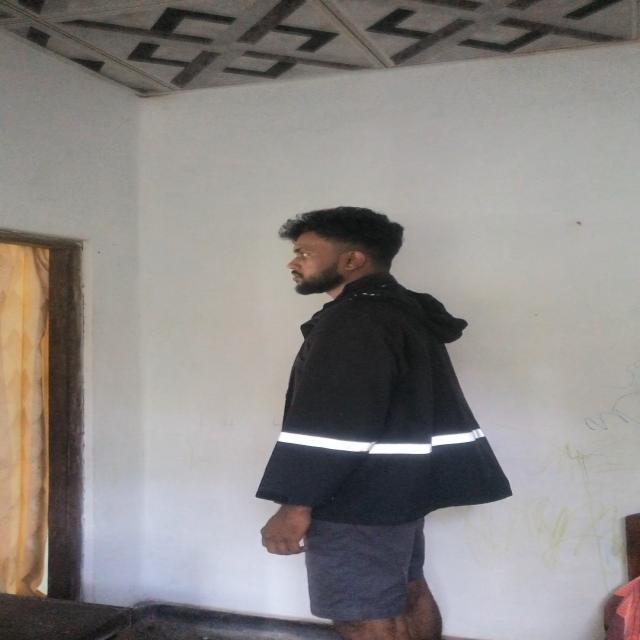Jacket_Wearer: (241, 283, 529, 529)
